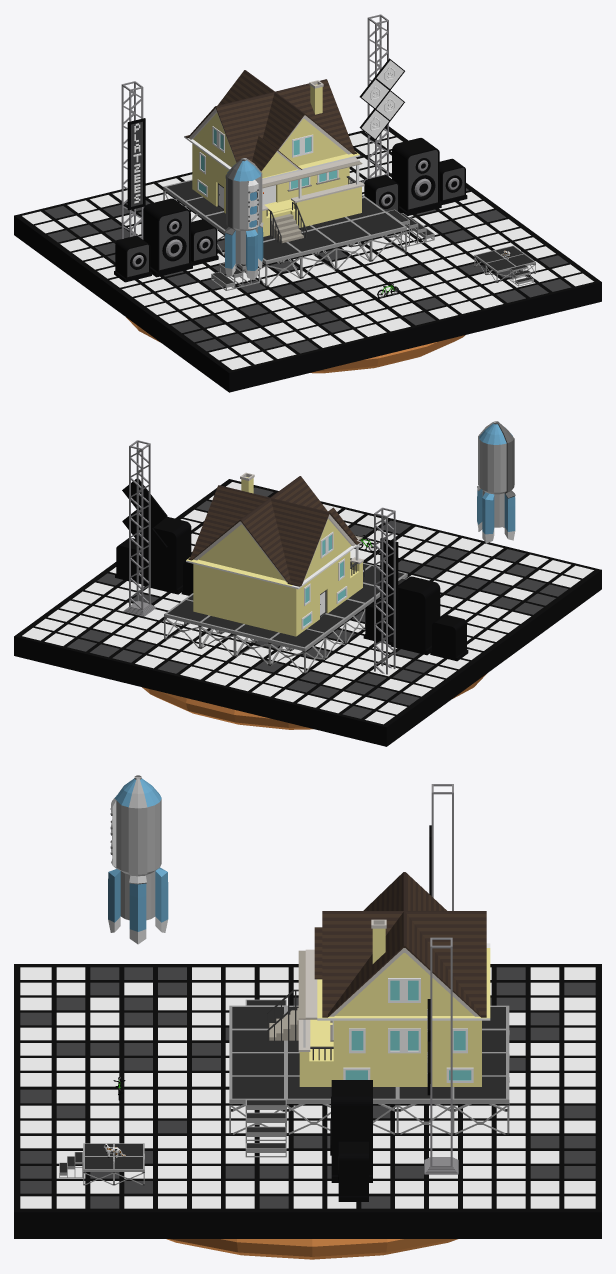
3 renders of one model, top to bottom at view 1: azimuth 30°, elevation 25°; view 2: azimuth 150°, elevation 25°; view 3: azimuth 270°, elevation 25°, orthographic. The views are drawn at different scales.
Parts seen in each view (by area): view 1: Cube.008, Cube.1555, OBJRANDOM_ROCKETSHIP, UNDERGROUND_PIZZA; view 2: Cube.008, Cube.1555, OBJRANDOM_ROCKETSHIP, UNDERGROUND_PIZZA; view 3: Cube.008, Cube.1555, OBJRANDOM_ROCKETSHIP, UNDERGROUND_PIZZA.
Boxes of the visible parts, x1,y1,x2,y2 form: Cube.008: (14,14,601,392); Cube.1555: (184,70,364,244); OBJRANDOM_ROCKETSHIP: (225,158,263,280); UNDERGROUND_PIZZA: (126,317,465,373); Cube.008: (14,440,601,746); Cube.1555: (186,472,365,636); OBJRANDOM_ROCKETSHIP: (477,421,515,543); UNDERGROUND_PIZZA: (142,674,486,729); Cube.008: (14,784,601,1238); Cube.1555: (267,872,490,1086); OBJRANDOM_ROCKETSHIP: (108,775,168,944); UNDERGROUND_PIZZA: (166,1239,457,1259).
Bounding box in the file's own units: 4000 × 2195 × 4000.
45 materials, 1 textured.
